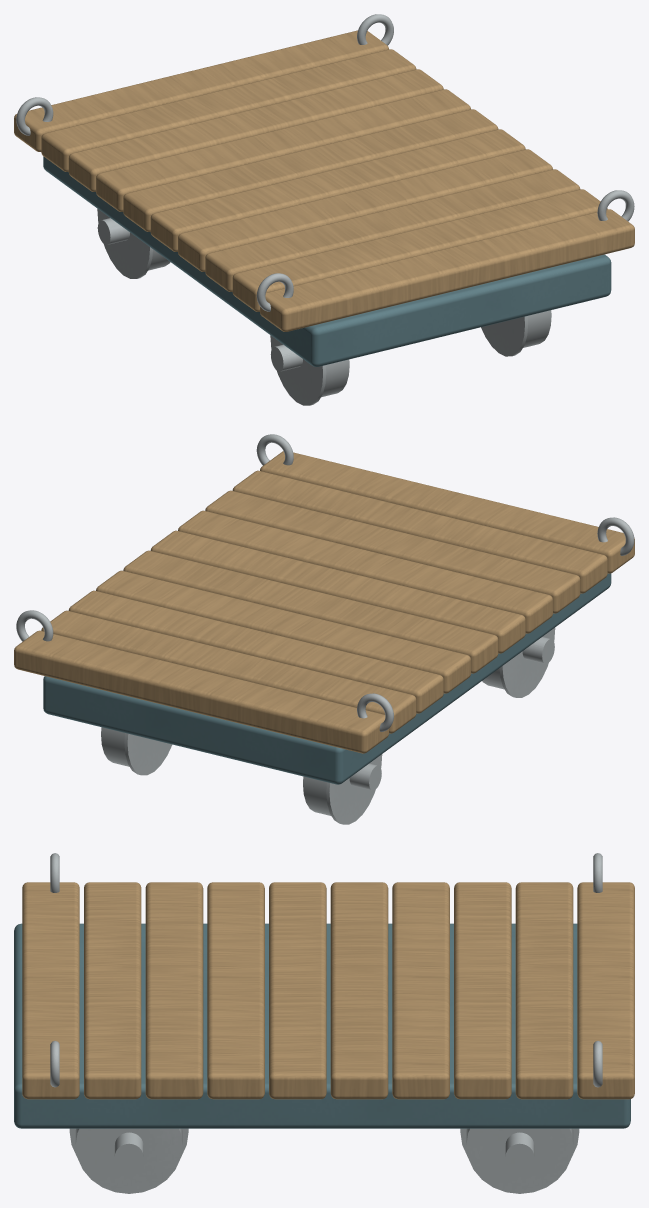
The model's file is gorgehold-survivor-gallery-and-operations-cargo-railwa-eec534dc__32890.glb.
3 views of the same model, one above another, from view 1: azimuth 30°, elevation 25°; view 2: azimuth 150°, elevation 25°; view 3: azimuth 270°, elevation 25° (orthographic). The views are drawn at different scales.
Parts seen in each view (by area): view 1: cargo-railway-pallet-carriage; view 2: cargo-railway-pallet-carriage; view 3: cargo-railway-pallet-carriage.
Part boxes in pixels (left/top/right/bottom): cargo-railway-pallet-carriage: left=14, top=14, right=634, bottom=405; cargo-railway-pallet-carriage: left=14, top=434, right=634, bottom=824; cargo-railway-pallet-carriage: left=14, top=853, right=634, bottom=1193.
Size of the model in its own units: 1.19 by 0.502 by 1.51.
Materials: 3 (3 with a texture image).
